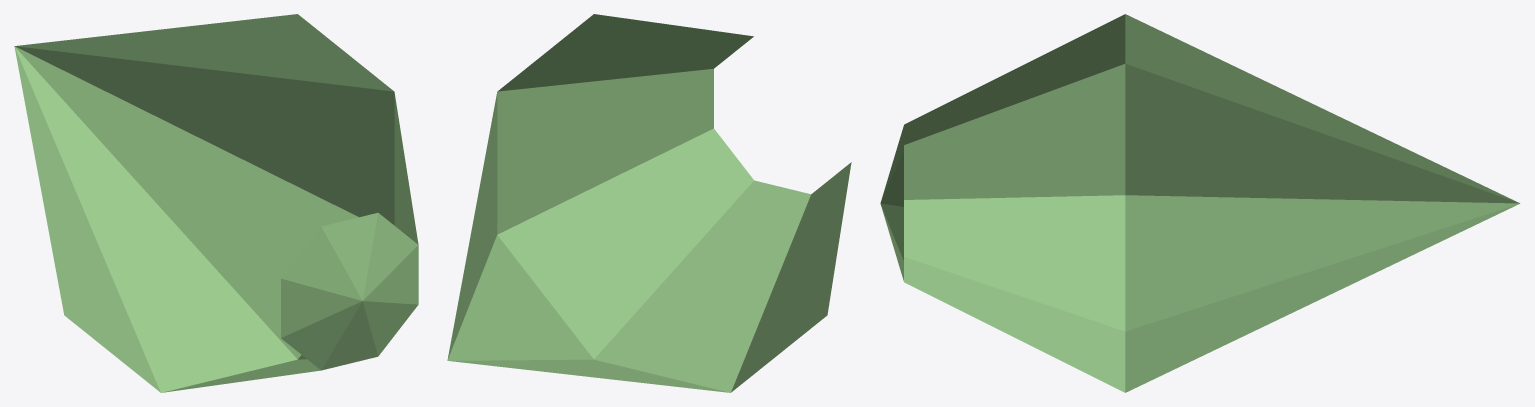
Rendered from matriarch.gltf.
3 views of the same model, side by side, from view 1: azimuth 30°, elevation 25°; view 2: azimuth 150°, elevation 25°; view 3: azimuth 270°, elevation 25° (orthographic). The views are drawn at different scales.
Visible parts, largest first — view 1: matriarch; view 2: matriarch; view 3: matriarch.
Part boxes in pixels (box(x1,y1,x2,y2)): matriarch: box(14, 14, 418, 392); matriarch: box(447, 14, 851, 392); matriarch: box(880, 14, 1520, 392).
Size of the model in its own units: 2.22 by 2.22 by 4.05.
